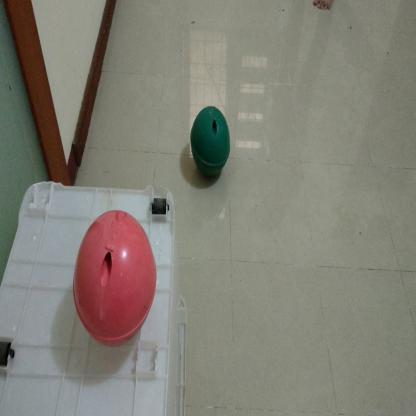green_buoy: (187, 105, 234, 184)
red_buoy: (72, 206, 158, 352)
